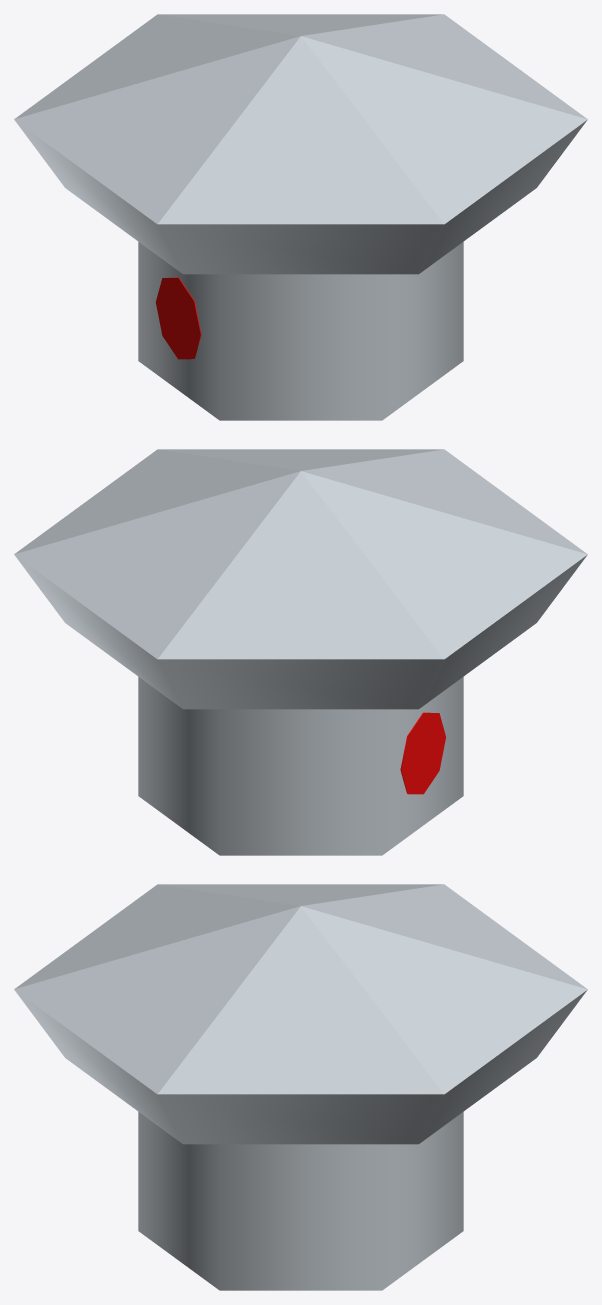
File: cha03_pkayer_mu.FBX
3 renders of one model, top to bottom at view 1: azimuth 30°, elevation 25°; view 2: azimuth 150°, elevation 25°; view 3: azimuth 270°, elevation 25°, orthographic.
Parts seen in each view (by area): view 1: Cha02_player_mu; view 2: Cha02_player_mu; view 3: Cha02_player_mu.
Boxes of the visible parts, x1,y1,x2,y2 form: Cha02_player_mu: (14,14,587,420); Cha02_player_mu: (14,449,587,855); Cha02_player_mu: (14,884,587,1290).
Bounding box in the file's own units: 1.02 × 0.7345 × 1.18.
